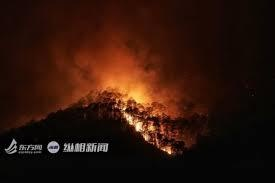fire: (111, 86, 174, 158)
